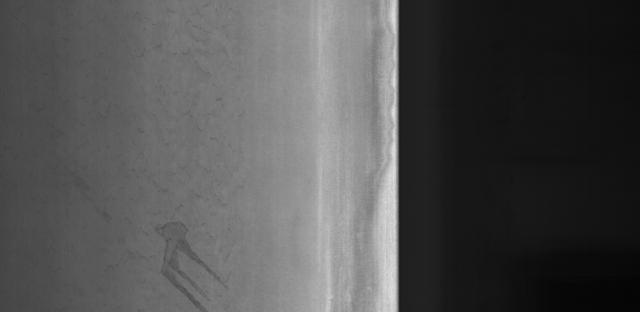silk_spot: (64, 15, 232, 199)
water_spot: (135, 221, 237, 312)
